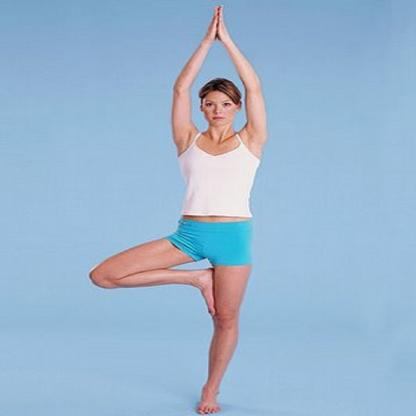tree: (84, 2, 275, 416)
